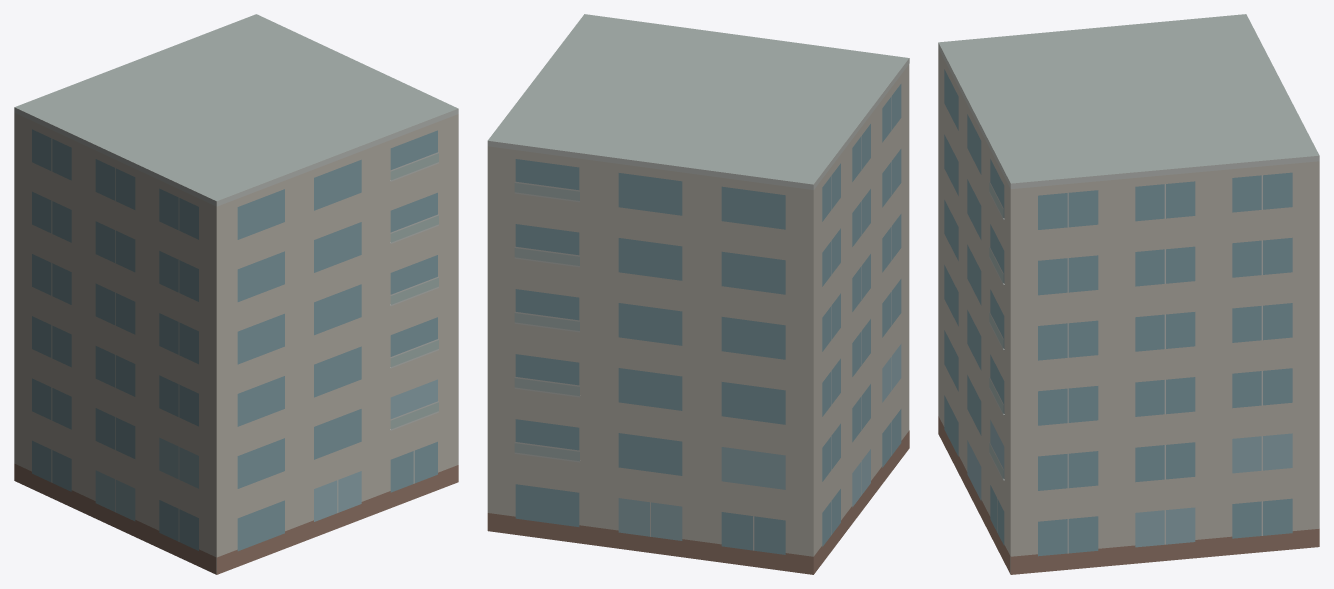
File: survey-upis-33018317.glb
The picture shows the model from 3 angles, left to right: view 1: azimuth 30°, elevation 25°; view 2: azimuth 150°, elevation 25°; view 3: azimuth 270°, elevation 25°; orthographic projection. The views are drawn at different scales.
Visible parts, largest first — view 1: survey-upis-33018317.tmp; view 2: survey-upis-33018317.tmp; view 3: survey-upis-33018317.tmp.
Part boxes in pixels (x1=…): survey-upis-33018317.tmp: x1=14, y1=14, x2=458, y2=574; survey-upis-33018317.tmp: x1=487, y1=14, x2=909, y2=574; survey-upis-33018317.tmp: x1=938, y1=14, x2=1319, y2=574.
Bounding box in the file's own units: 15.81 × 17 × 15.03.
